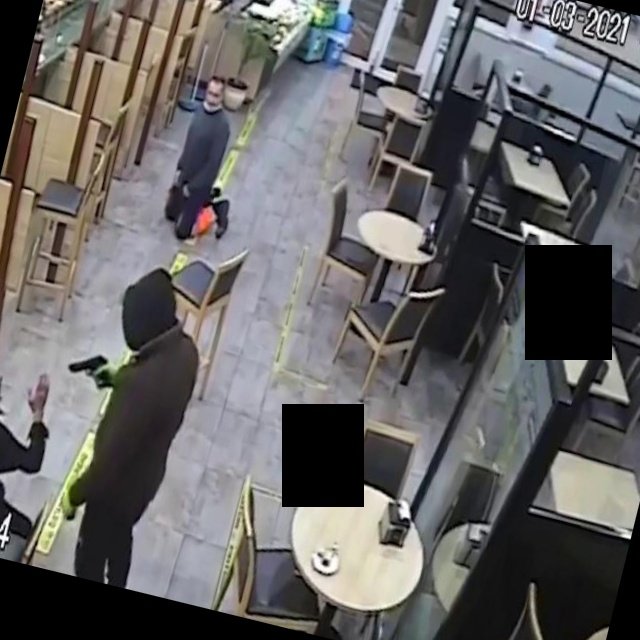gun: (56, 332, 121, 404)
